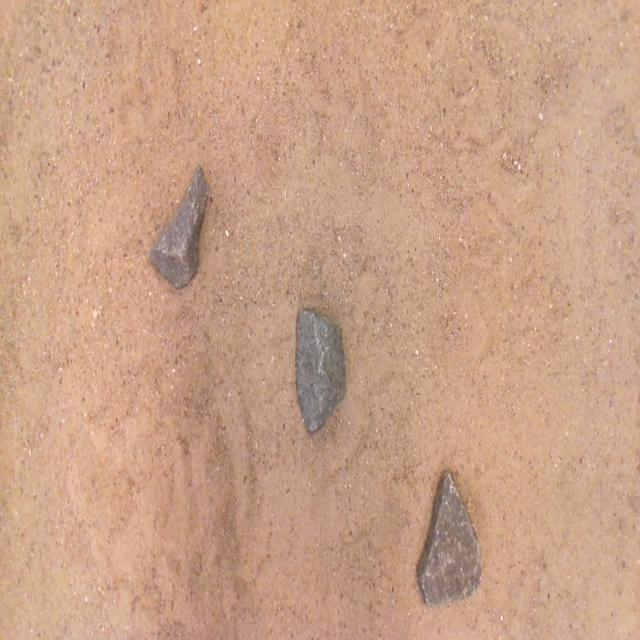rock: (417, 471, 481, 604), (149, 165, 208, 287), (296, 309, 345, 431)
